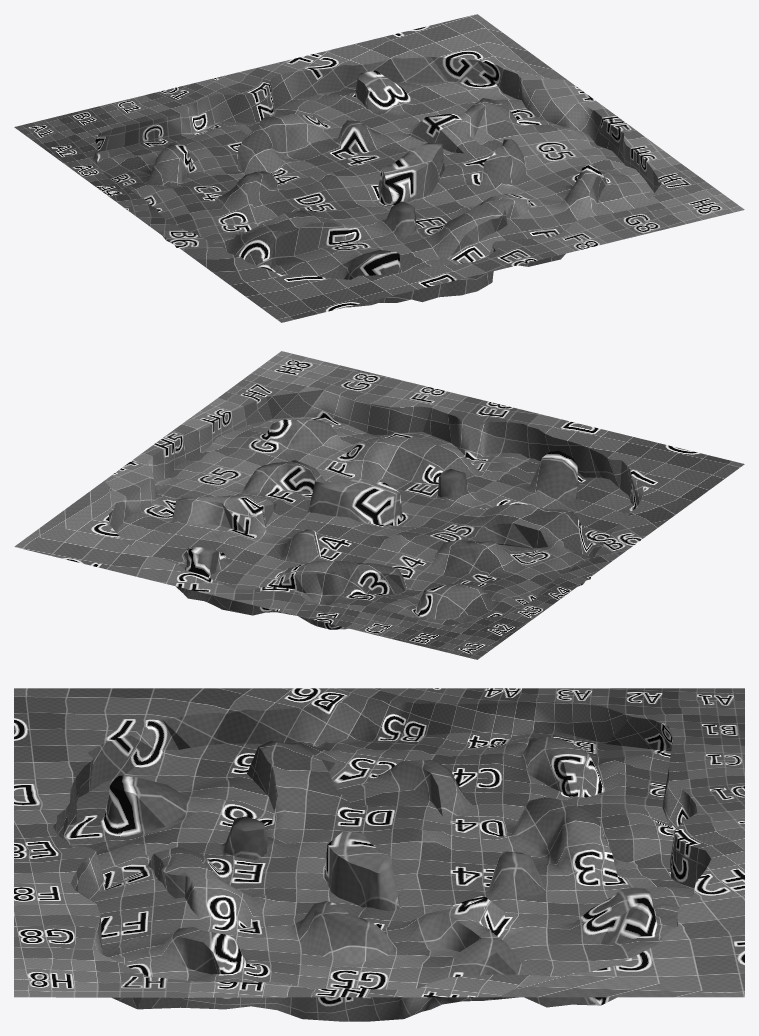
File: Terrain5.fbx
3 renders of one model, top to bottom at view 1: azimuth 30°, elevation 25°; view 2: azimuth 150°, elevation 25°; view 3: azimuth 270°, elevation 25°, orthographic. The views are drawn at different scales.
Parts seen in each view (by area): view 1: BasicTerrain; view 2: BasicTerrain; view 3: BasicTerrain.
Boxes of the visible parts, x1,y1,x2,y2 form: BasicTerrain: (14,14,744,322); BasicTerrain: (14,351,744,659); BasicTerrain: (14,688,744,1021).
Size of the model in its own units: 2550000 by 221009 by 2550000.
